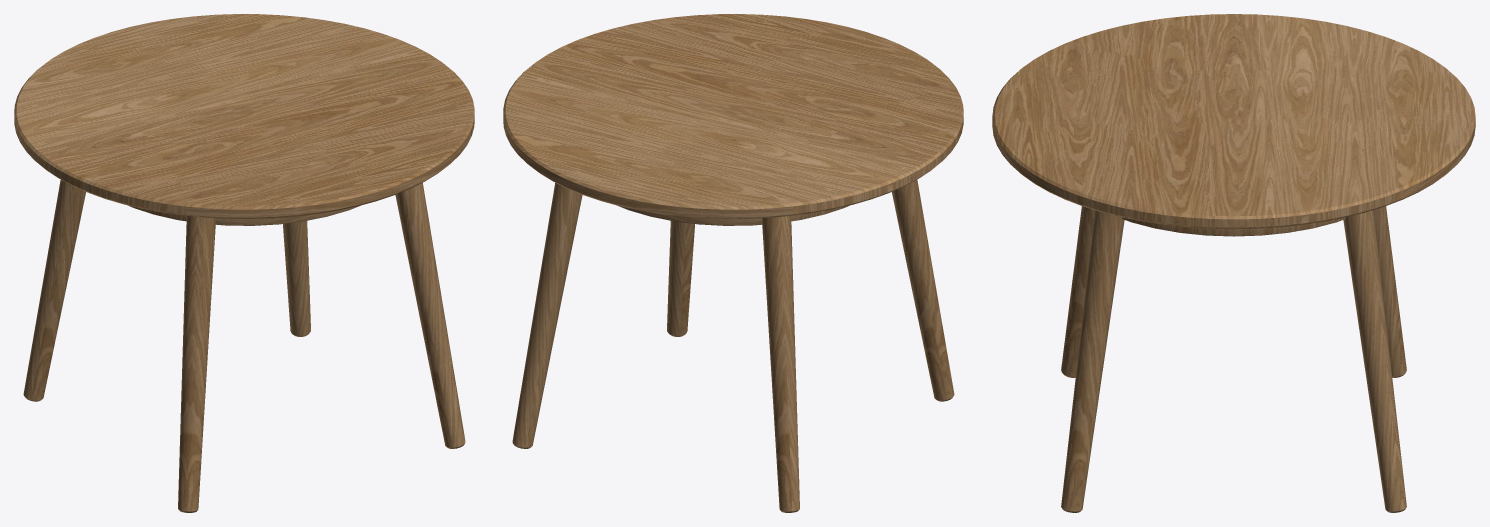
File: mesa_redonda_madera_patas.glb
The picture shows the model from 3 angles, left to right: view 1: azimuth 30°, elevation 25°; view 2: azimuth 150°, elevation 25°; view 3: azimuth 270°, elevation 25°; orthographic projection. The views are drawn at different scales.
Visible parts, largest first — view 1: mesa_redonda_madera_patas; view 2: mesa_redonda_madera_patas; view 3: mesa_redonda_madera_patas.
Boxes of the visible parts, x1=… form: mesa_redonda_madera_patas: x1=14, y1=14, x2=474, y2=512; mesa_redonda_madera_patas: x1=503, y1=14, x2=963, y2=512; mesa_redonda_madera_patas: x1=992, y1=14, x2=1475, y2=512.
Bounding box in the file's own units: 1 × 0.748 × 1.
Materials: 1 (1 with a texture image).
